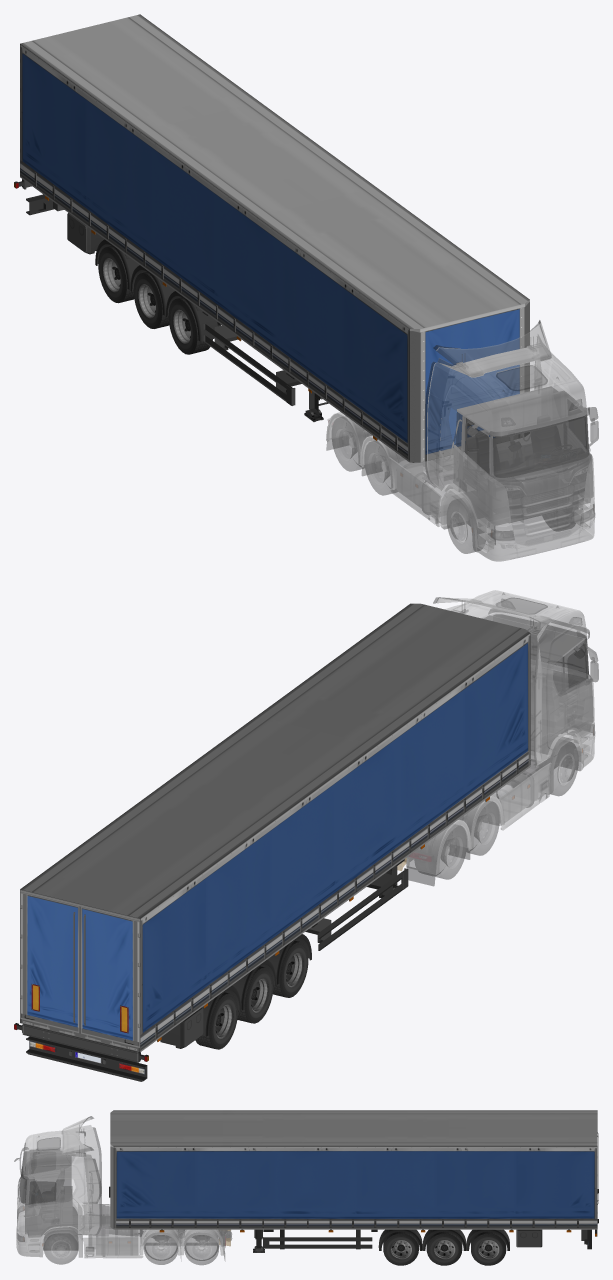
File: lorry.glb
The picture shows the model from 3 angles, top to bottom: view 1: azimuth 30°, elevation 25°; view 2: azimuth 150°, elevation 25°; view 3: azimuth 270°, elevation 25°; orthographic projection. The views are drawn at different scales.
Parts seen in each view (by area): view 1: Trailers, Body, Door_FR, Door_FL, Wheel_FR_, T_Wheel__B_1, T_Wheel__B_3, T_Wheel__B_2, Wheel_BR_1, Wheel_BR_2; view 2: Trailers, Body, T_Door_L, T_Door_R, Door_FR, Wheel_BR_2, Wheel_FR_, T_Wheel__B_3, T_Wheel__B_2, T_Wheel__B_1, Wheel_BR_1; view 3: Trailers, Body, Door_FL, Door_FR, Wheel_BL_2, Wheel_BL_1, T_Wheel__B_2, T_Wheel__B_1, T_Wheel__B_3, Wheel_FL_.
Boxes of the visible parts, bbox=[...] form: Trailers: bbox=[14, 14, 529, 462]; Body: bbox=[326, 320, 595, 561]; Door_FR: bbox=[459, 415, 492, 527]; Door_FL: bbox=[563, 391, 598, 502]; Wheel_FR_: bbox=[447, 498, 485, 553]; T_Wheel__B_1: bbox=[168, 297, 212, 354]; T_Wheel__B_3: bbox=[98, 246, 134, 303]; T_Wheel__B_2: bbox=[133, 272, 169, 328]; Wheel_BR_1: bbox=[364, 440, 404, 495]; Wheel_BR_2: bbox=[332, 416, 364, 471]; Trailers: bbox=[14, 603, 530, 1081]; Body: bbox=[397, 590, 595, 886]; T_Door_L: bbox=[20, 889, 79, 1037]; T_Door_R: bbox=[80, 904, 139, 1052]; Door_FR: bbox=[563, 638, 598, 737]; Wheel_BR_2: bbox=[414, 824, 466, 879]; Wheel_FR_: bbox=[539, 739, 578, 795]; T_Wheel__B_3: bbox=[195, 992, 237, 1049]; T_Wheel__B_2: bbox=[237, 966, 273, 1023]; T_Wheel__B_1: bbox=[273, 940, 308, 997]; Wheel_BR_1: bbox=[466, 801, 499, 855]; Trailers: bbox=[109, 1110, 598, 1252]; Body: bbox=[14, 1116, 231, 1259]; Door_FL: bbox=[25, 1179, 59, 1237]; Door_FR: bbox=[28, 1149, 59, 1192]; Wheel_BL_2: bbox=[184, 1230, 218, 1264]; Wheel_BL_1: bbox=[144, 1230, 177, 1264]; T_Wheel__B_2: bbox=[426, 1231, 462, 1265]; T_Wheel__B_1: bbox=[383, 1231, 418, 1265]; T_Wheel__B_3: bbox=[471, 1231, 506, 1265]; Wheel_FL_: bbox=[44, 1230, 77, 1264].
Bounding box in the file's own units: 76.86 × 107 × 472.
Materials: 7 (5 with a texture image).
